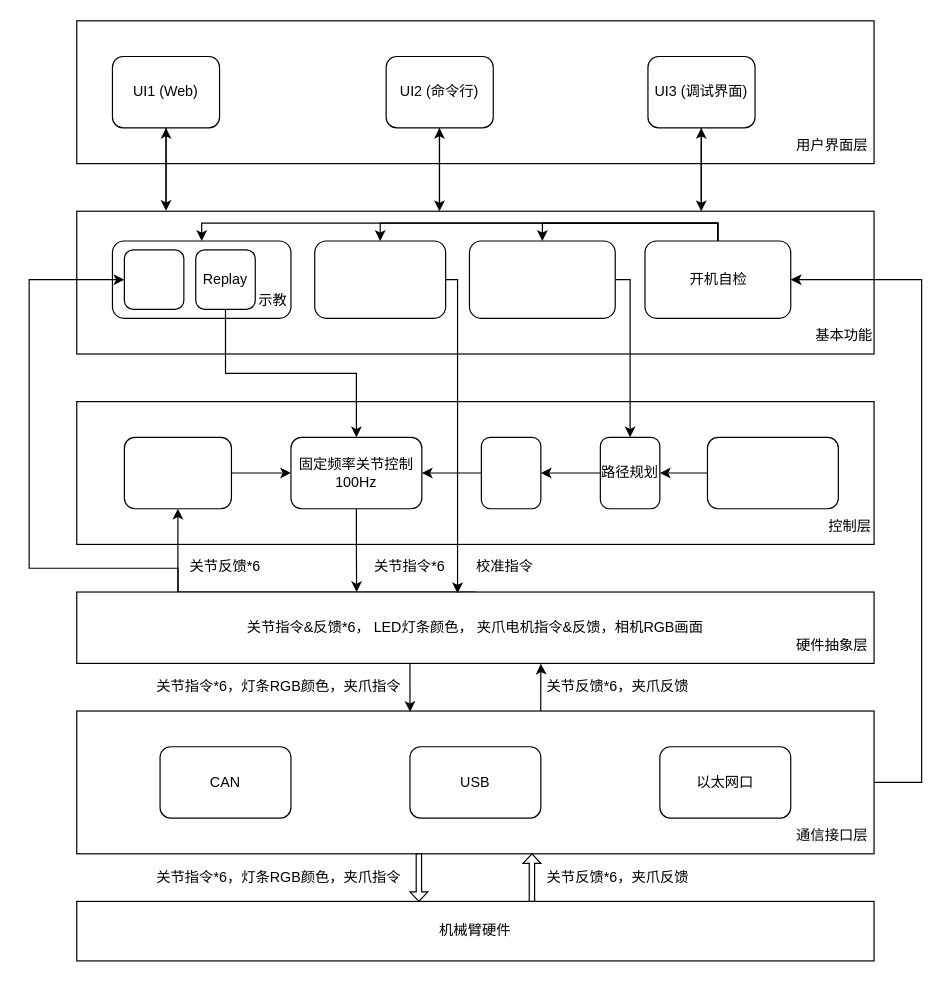
The diagram is 952 pixels wide and 982 high, and some of its shapes have lost their labels. The shapes that lost their labels are listed below. From the top down, each one's centre as x and y in pixels, then its label:
At (153,279): "Record".
At (380,279): "校准零点".
At (541,279): "手柄/键盘控制".
At (177,472): "态势评估".
At (510,472): "轨迹队列 (FIFO)".
At (772,472): "运动、动力学解算".
